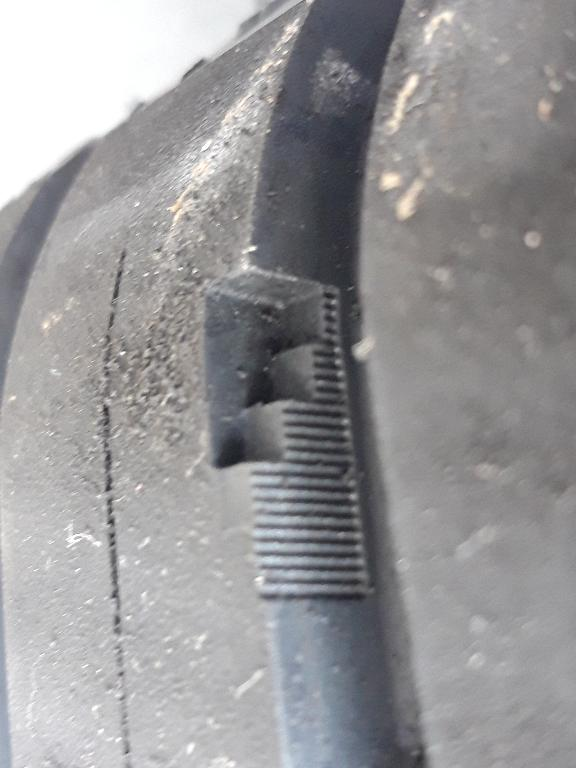temoin:75: (188, 256, 376, 543)
